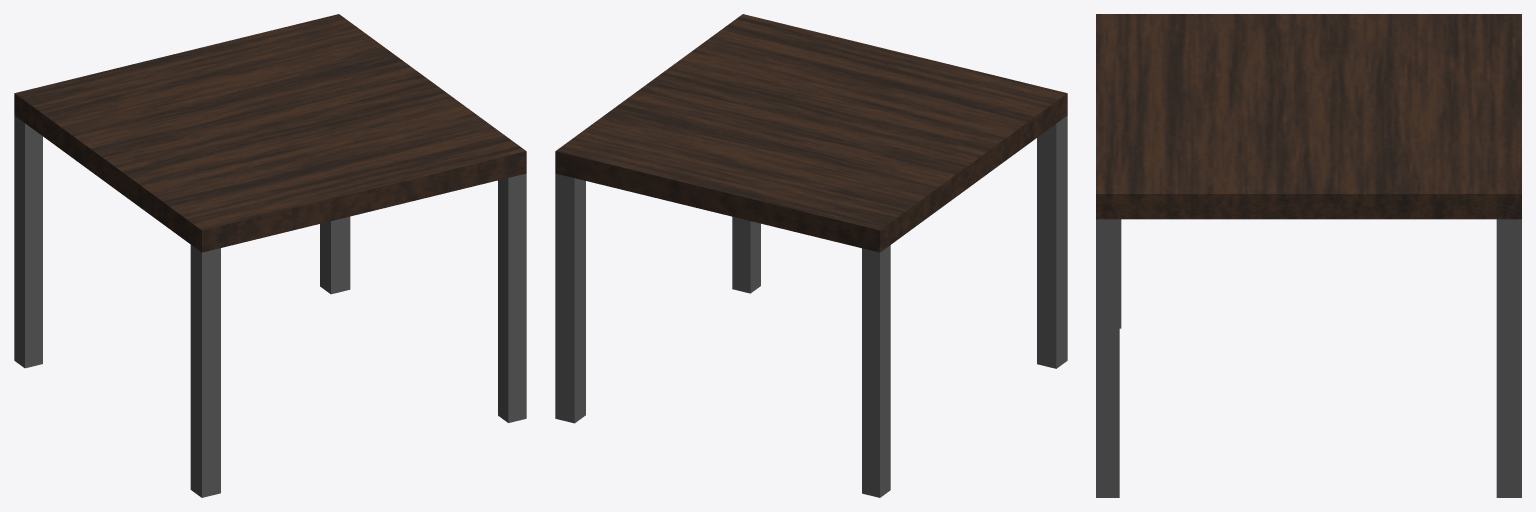
File: NormalTable.fbx
The picture shows the model from 3 angles, left to right: view 1: azimuth 30°, elevation 25°; view 2: azimuth 150°, elevation 25°; view 3: azimuth 270°, elevation 25°; orthographic projection. The views are drawn at different scales.
Visible parts, largest first — view 1: Cube; view 2: Cube; view 3: Cube.
Part boxes in pixels (x1,y1,x2,y2): Cube: [14, 14, 526, 497]; Cube: [555, 14, 1067, 497]; Cube: [1096, 14, 1521, 497].
Bounding box in the file's own units: 107 × 84.29 × 107.
